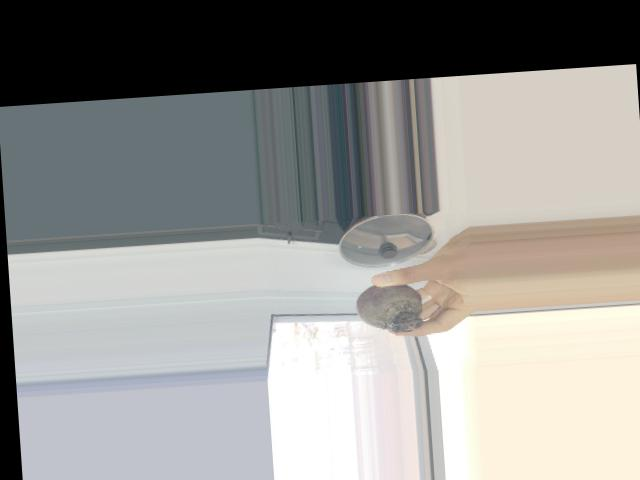beet: (354, 279, 442, 335)
